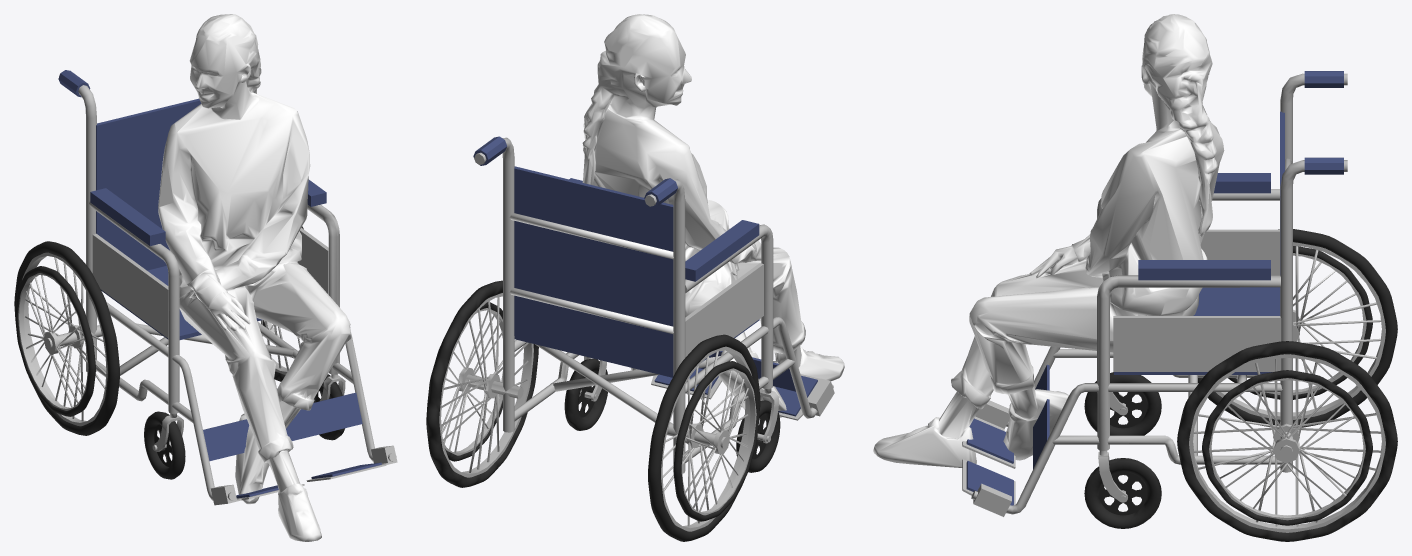
Rendered from wheelchairHuman.glb.
3 renders of one model, left to right at view 1: azimuth 30°, elevation 25°; view 2: azimuth 150°, elevation 25°; view 3: azimuth 270°, elevation 25°, orthographic. The views are drawn at different scales.
Visible parts, largest first — view 1: Humano_02Casual_18_30K_001; view 2: Humano_02Casual_18_30K_001; view 3: Humano_02Casual_18_30K_001.
Boxes of the visible parts, left/top/right/bottom form: Humano_02Casual_18_30K_001: left=14, top=14, right=397, bottom=541; Humano_02Casual_18_30K_001: left=426, top=14, right=844, bottom=541; Humano_02Casual_18_30K_001: left=873, top=14, right=1397, bottom=541.
Bounding box in the file's own units: 0.7424 × 1.21 × 1.23.
